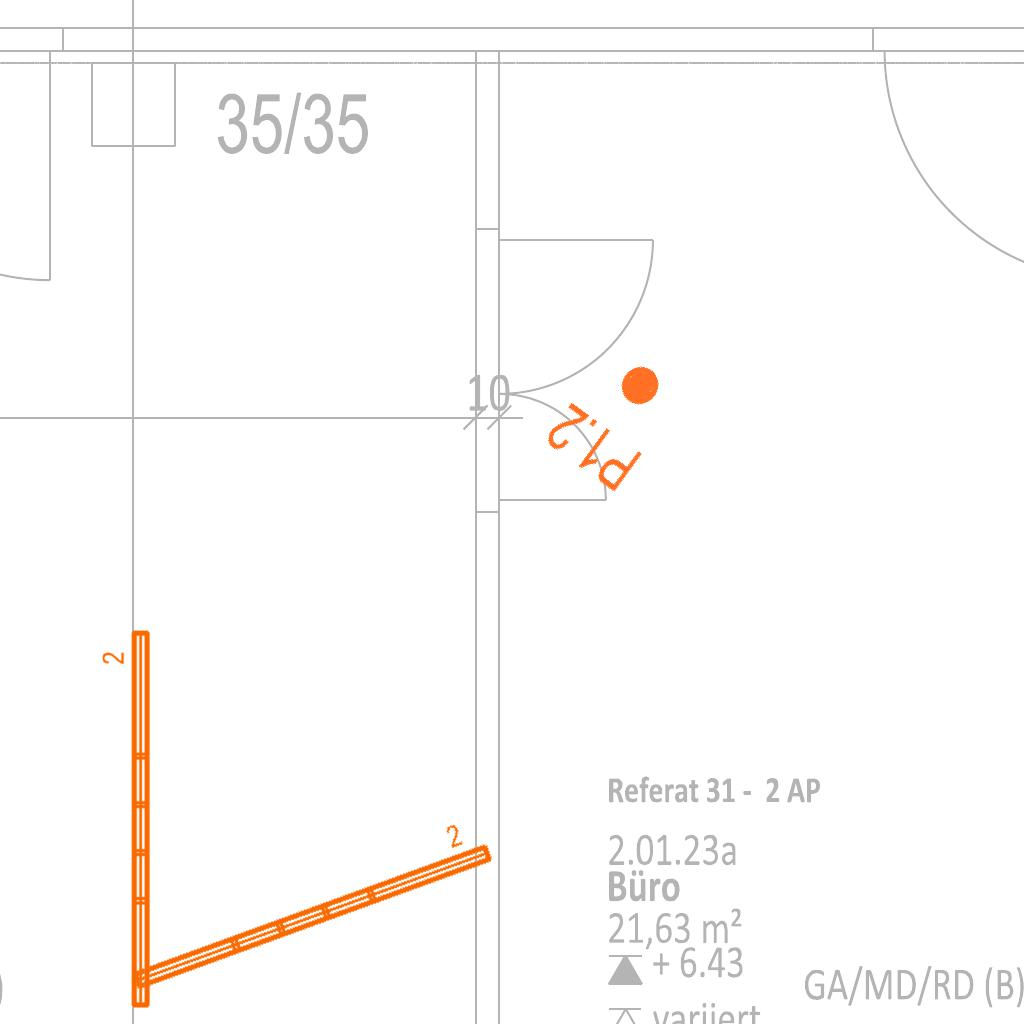Ambulanz_Pendelleuchte_LED: (116, 812, 499, 998), (100, 626, 156, 1013)
Downlight_LED_Einbauleuchten_Flur: (539, 338, 690, 498)
